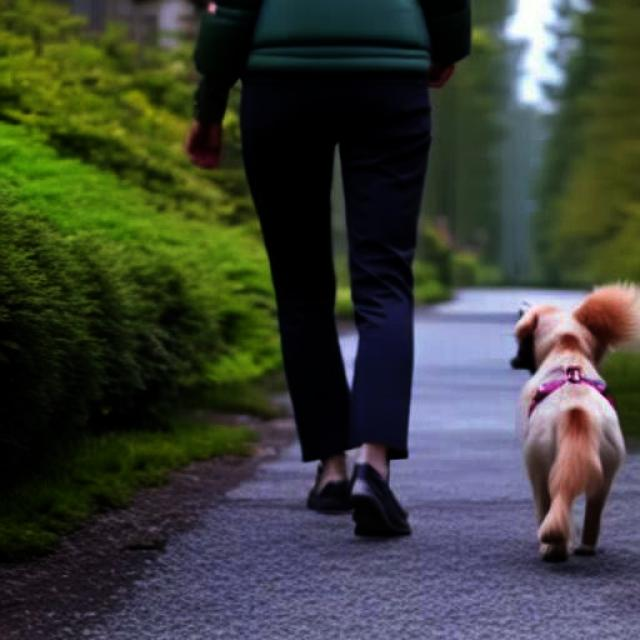Unleashed_Dog: (274, 92, 640, 562)
